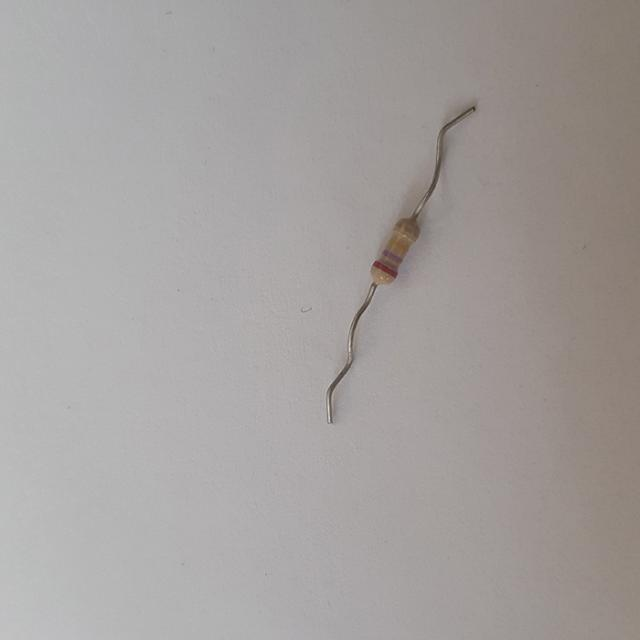gold: (394, 222, 416, 238)
red: (374, 261, 398, 276)
resistor: (352, 209, 432, 297)
violet: (382, 249, 401, 261)
yellow: (389, 239, 407, 251)
